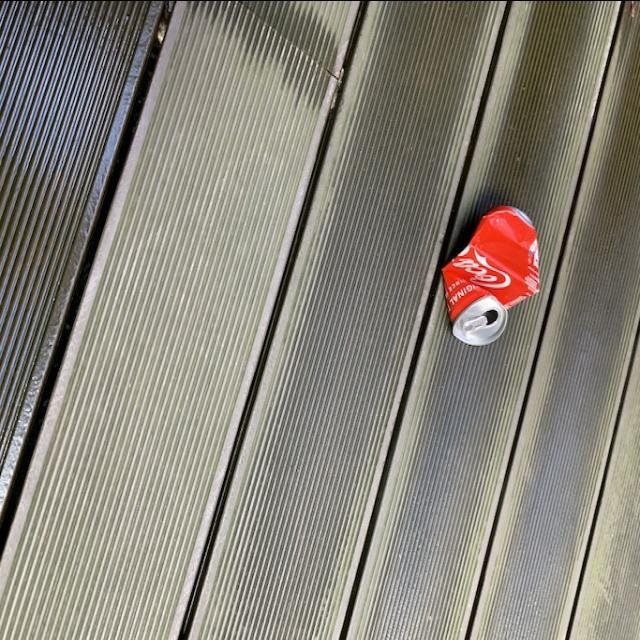Aluminum Can: (438, 199, 544, 345)
